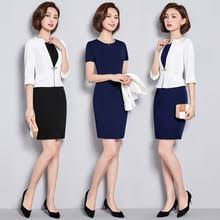F_tailored skirt: (26, 86, 74, 147), (151, 88, 190, 146)
